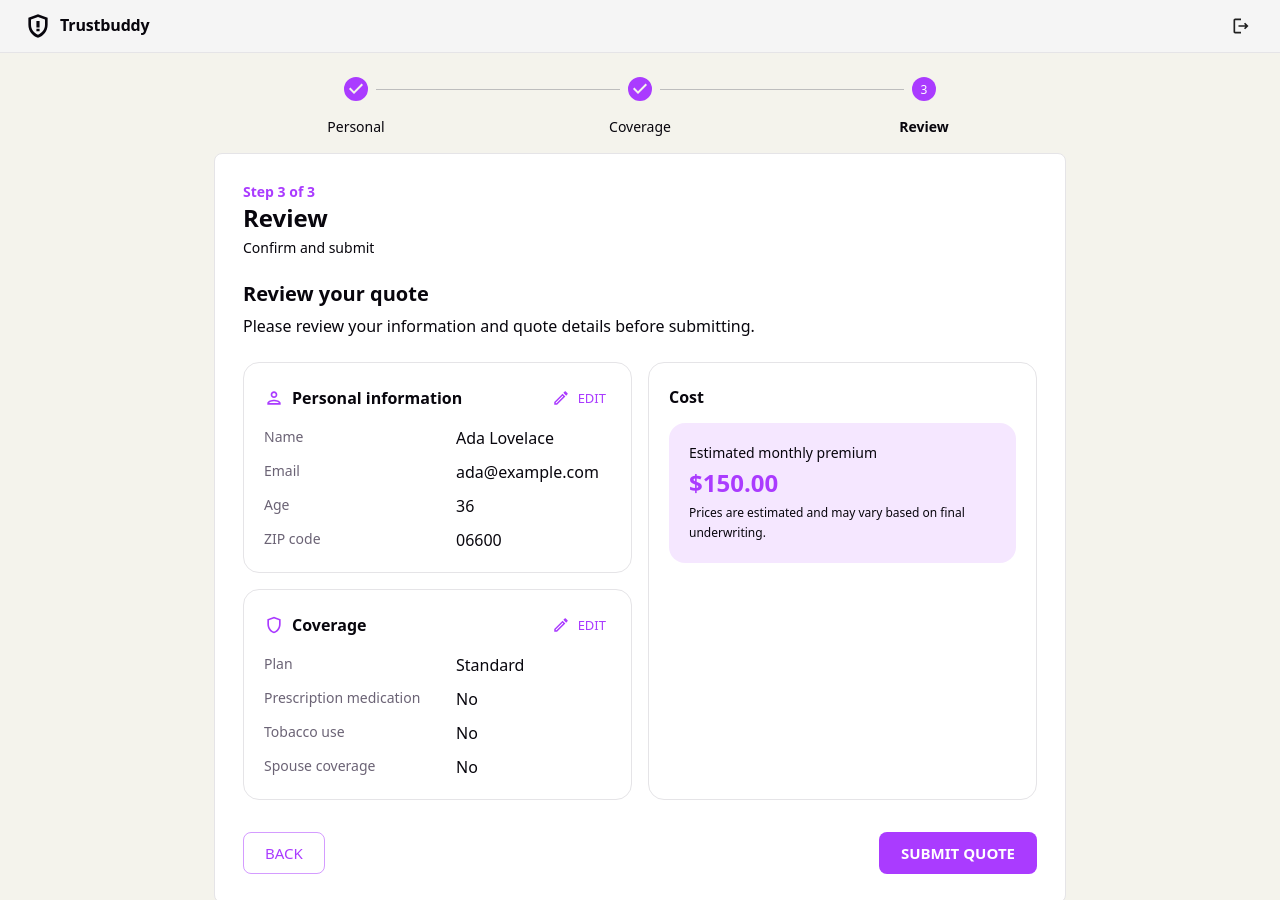
Test case: wizard routes › given_draftQuote_when_submitted_then_navigatesToSuccess
Expected: the heading "Review your quote" is shown, [243,280,429,307]
Click the button "Submit quote".
click(958, 853)  # box [879,832,1037,874]
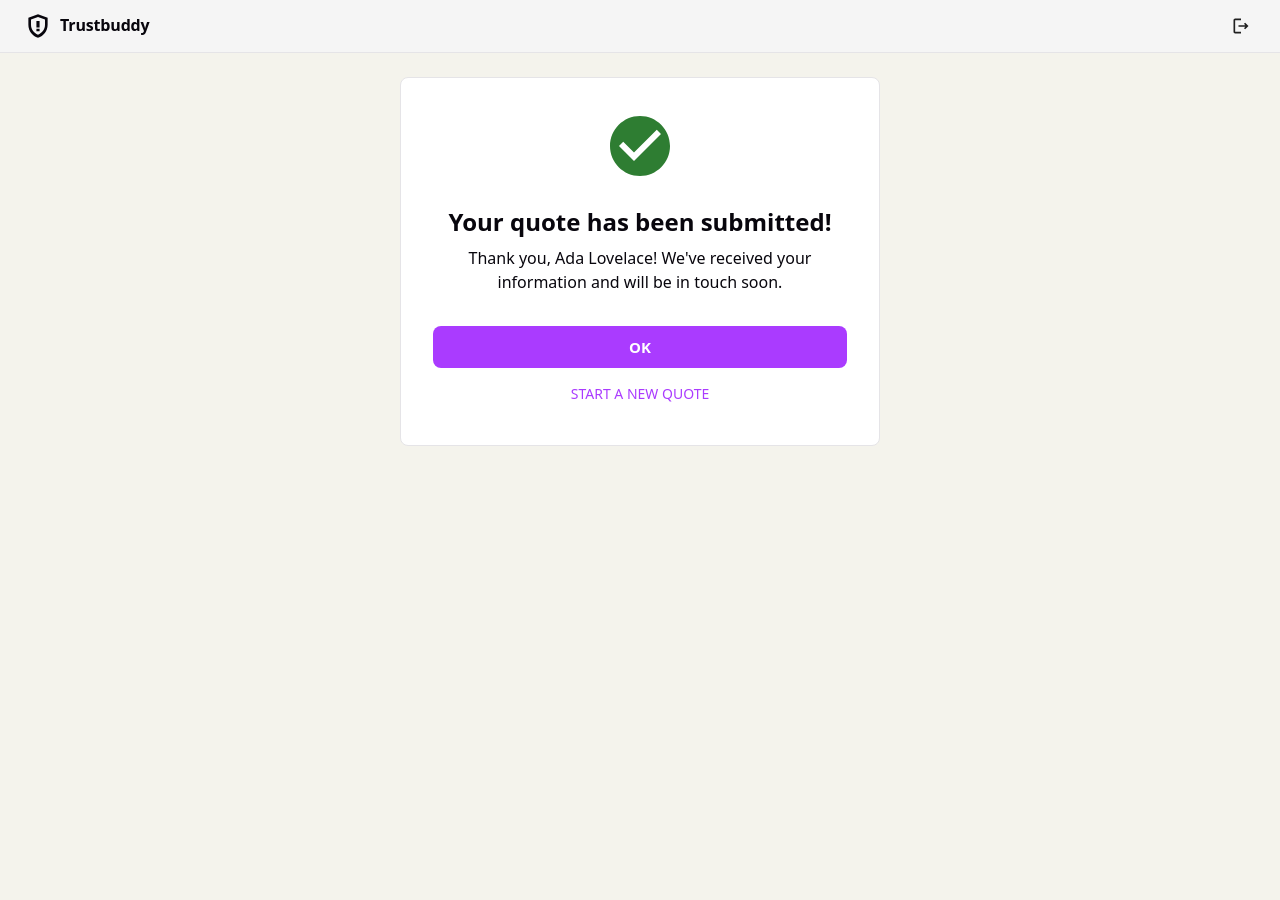
Now the heading "Your quote has been submitted!" is shown, box [433,206,847,238]
